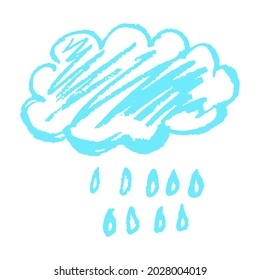cloud: (18, 22, 241, 157)
